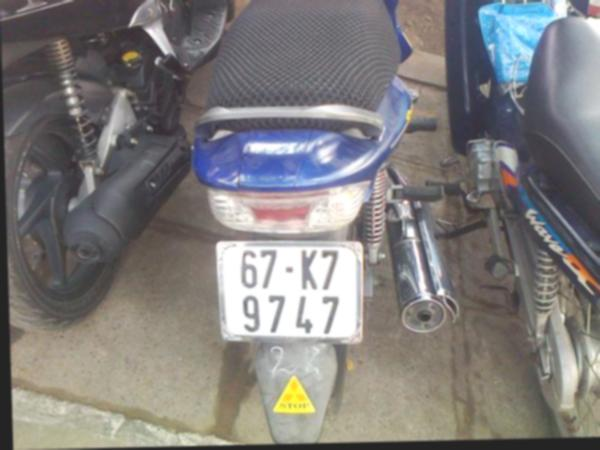License_Plate: (220, 243, 358, 341)
